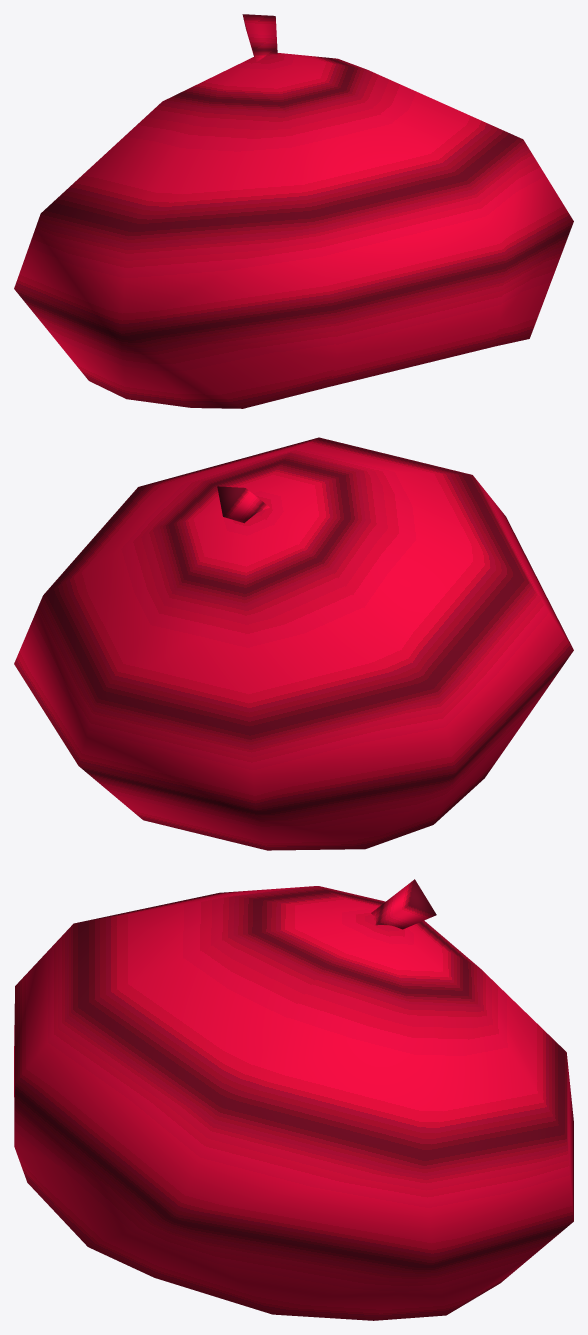
Rendered from code_head82.gltf.
3 views of the same model, one above another, from view 1: azimuth 30°, elevation 25°; view 2: azimuth 150°, elevation 25°; view 3: azimuth 270°, elevation 25° (orthographic). The views are drawn at different scales.
Parts seen in each view (by area): view 1: code_head82; view 2: code_head82; view 3: code_head82.
Part boxes in pixels (<box>): code_head82: <box>14,14,573,408</box>; code_head82: <box>14,437,573,850</box>; code_head82: <box>14,879,573,1320</box>.
Size of the model in its own units: 0.7825 by 0.5349 by 0.738.
Materials: 1 (1 with a texture image).
